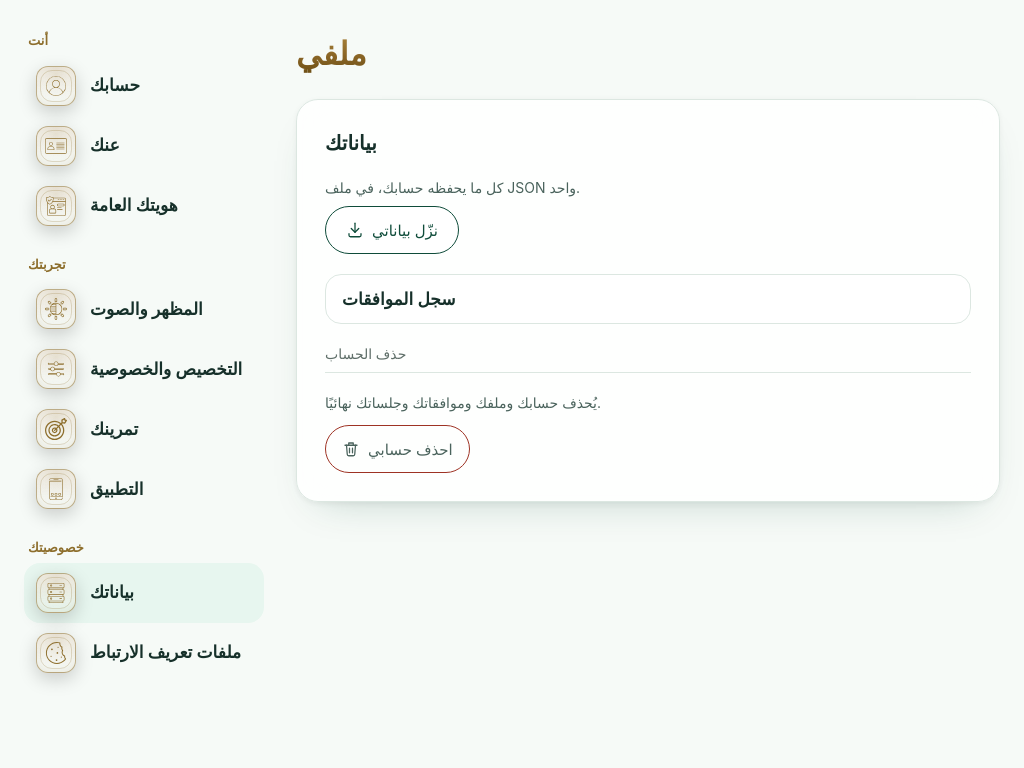
Scenario: MeScreen data › says when the export failed
Click the button "نزّل بياناتي" at (392, 230), box [325, 206, 459, 254]
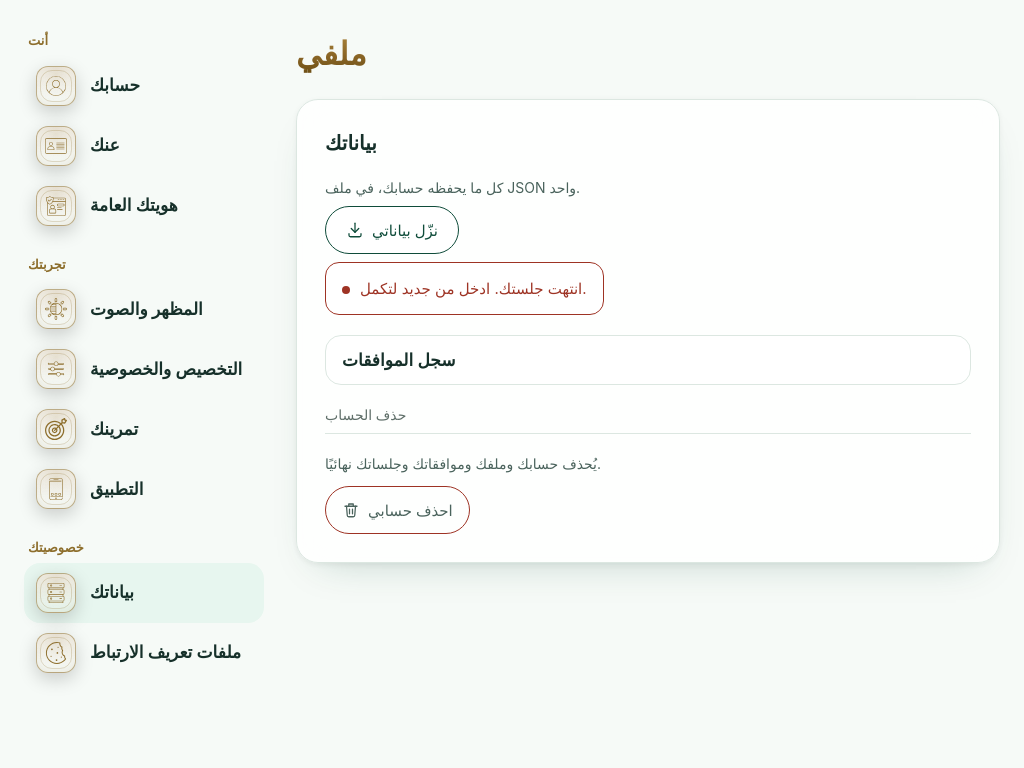
Result: the text "انتهت جلستك. ادخل من جديد لتكمل." is shown at [360, 275, 587, 302]
